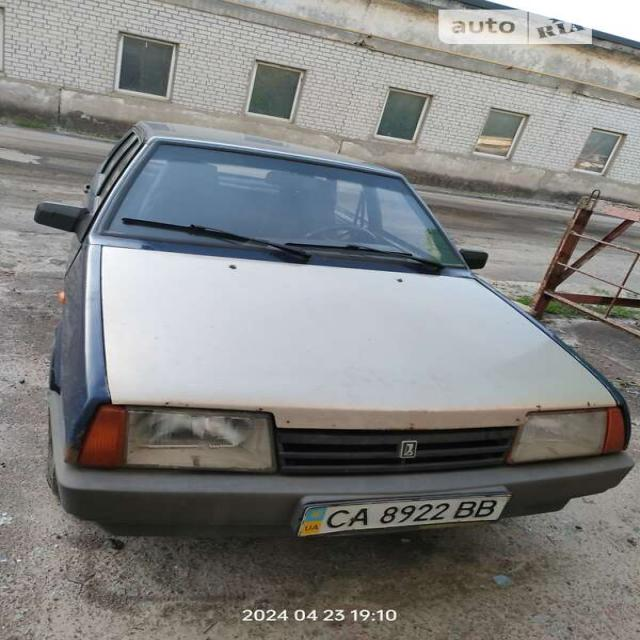plate: (278, 486, 516, 540)
